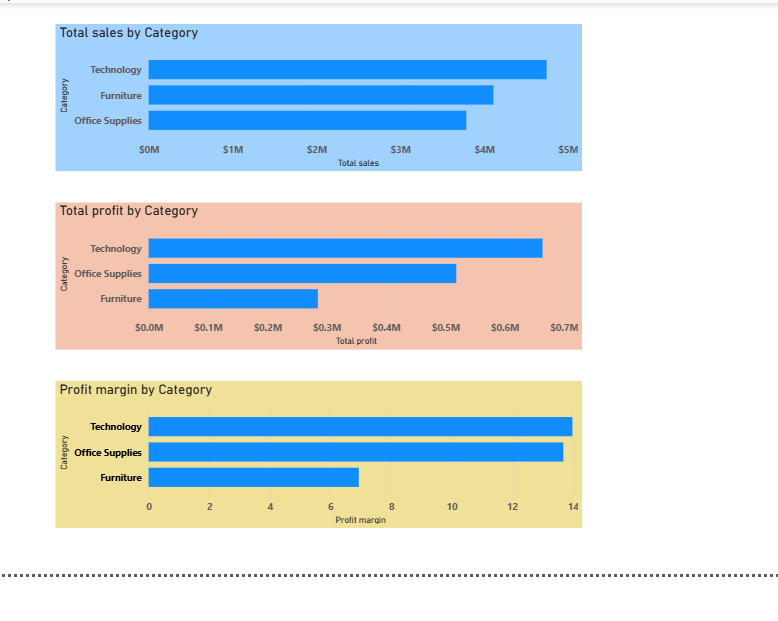

Layout of this report page (visuals, bound fields, positions):
{"tool":"powerbi","page":{"name":"Category-analysis","canvas":[1280,720],"ordinal":1},"visuals":[{"type":"clusteredBarChart","fields":{"Category":["superstoredatasql2.Category"],"Y":["superstoredatasql2.Total sales"]},"box":[115.3,26.5,663.3,185.2],"z":0},{"type":"clusteredBarChart","fields":{"Category":["superstoredatasql2.Category"],"Y":["superstoredatasql2.Total profit"]},"box":[115.3,251.3,663.3,185.2],"z":1},{"type":"clusteredBarChart","fields":{"Category":["superstoredatasql2.Category"],"Y":["superstoredatasql2.Profit margin"]},"box":[115.3,476.2,663.3,185.2],"z":2}]}

Visuals, with their boxes on the page's 1280x720 design canvas (x1, y1, x2, y2). These are canvas units, not pixel positions in the 778x621 screenshot, which may show the page scaled, cropped or inside an application window:
clusteredBarChart - superstoredatasql2.Category x superstoredatasql2.Total sales: select_region(115, 26, 779, 212)
clusteredBarChart - superstoredatasql2.Category x superstoredatasql2.Total profit: select_region(115, 251, 779, 436)
clusteredBarChart - superstoredatasql2.Category x superstoredatasql2.Profit margin: select_region(115, 476, 779, 661)
